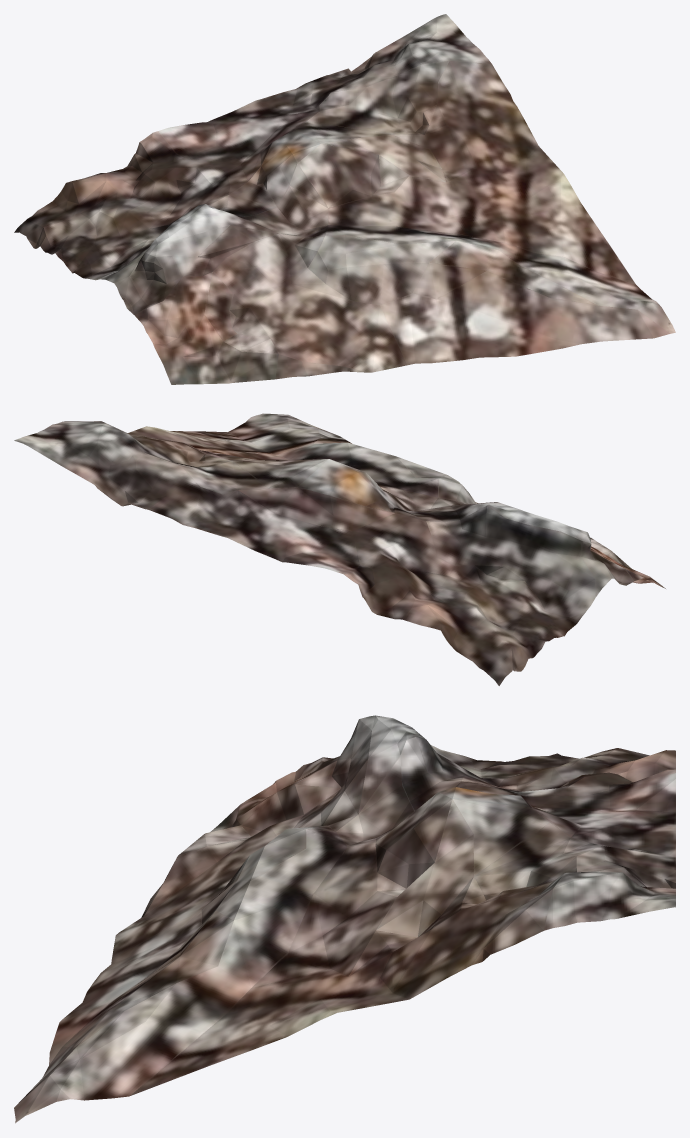
The picture shows the model from 3 angles, top to bottom: view 1: azimuth 30°, elevation 25°; view 2: azimuth 150°, elevation 25°; view 3: azimuth 270°, elevation 25°; orthographic projection. The views are drawn at different scales.
Size of the model in its own units: 1.67 by 0.5573 by 1.55.
Materials: 2 (2 with a texture image).
